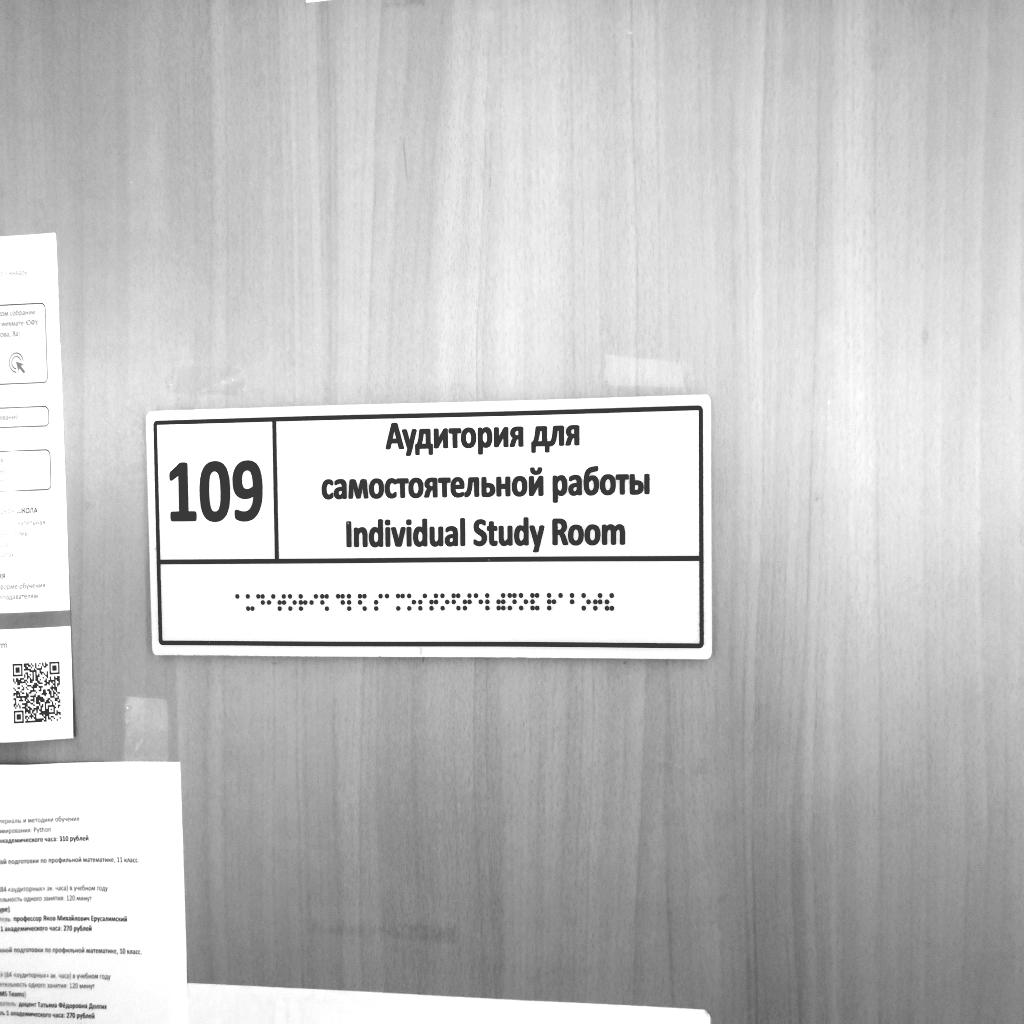_n: (507, 592, 517, 611)
_y: (245, 594, 255, 612)
a: (384, 593, 394, 611), (558, 592, 567, 611), (235, 594, 244, 612)
b: (569, 593, 579, 611)
d: (256, 593, 265, 612), (336, 593, 345, 612)
e: (474, 593, 483, 612)
i: (309, 593, 319, 612), (267, 594, 276, 612)
iKratkoe: (530, 593, 540, 612)
ii: (605, 593, 614, 611)
l: (485, 593, 495, 612), (347, 593, 356, 611)
m: (396, 593, 406, 611)
myagkiy: (496, 593, 506, 611)
o: (407, 593, 417, 611), (440, 593, 450, 611), (288, 594, 297, 612), (519, 593, 528, 611), (582, 593, 591, 611)
r: (298, 594, 308, 612), (547, 592, 556, 611)
s: (374, 593, 383, 611), (418, 593, 427, 611)
t: (463, 592, 473, 612), (277, 593, 287, 612), (429, 593, 439, 612), (593, 593, 603, 612)
ya: (451, 593, 461, 612), (358, 593, 367, 612), (320, 594, 329, 612)
